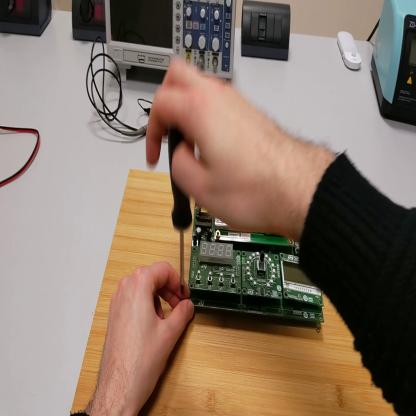hand: (147, 57, 290, 235), (84, 262, 195, 411)
low voltage board: (188, 211, 324, 323)
oscilloscope: (105, 2, 237, 94)
oscilloscope probe tip: (133, 127, 148, 134)
screwdriver-: (167, 137, 194, 299)
socket: (1, 1, 54, 40), (73, 2, 108, 45)
welder station: (373, 3, 416, 124)
working area: (71, 168, 396, 415)
